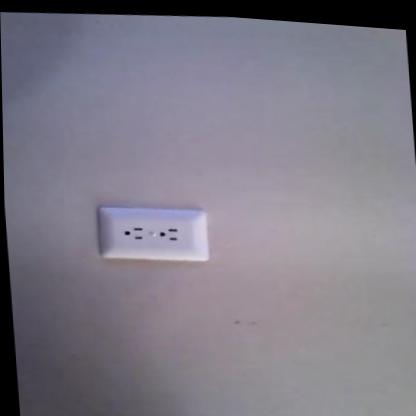OUTLET: (95, 197, 210, 267)
